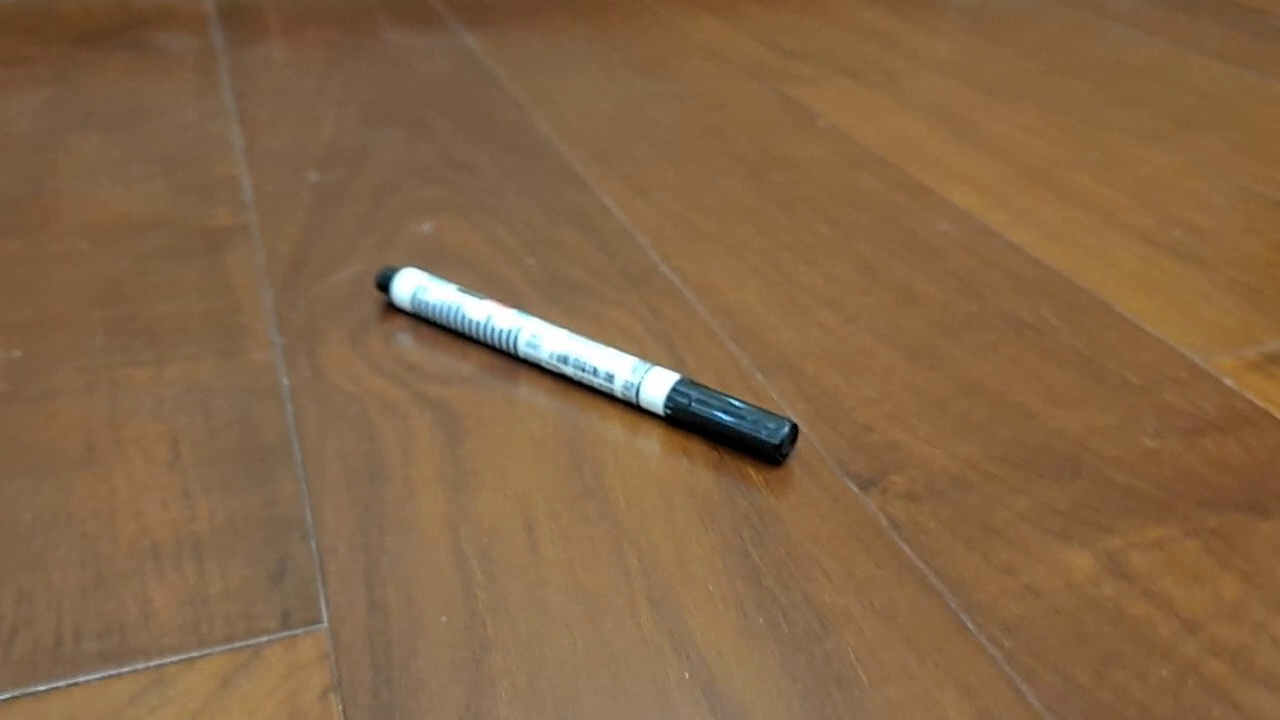pen: (372, 263, 800, 467)
